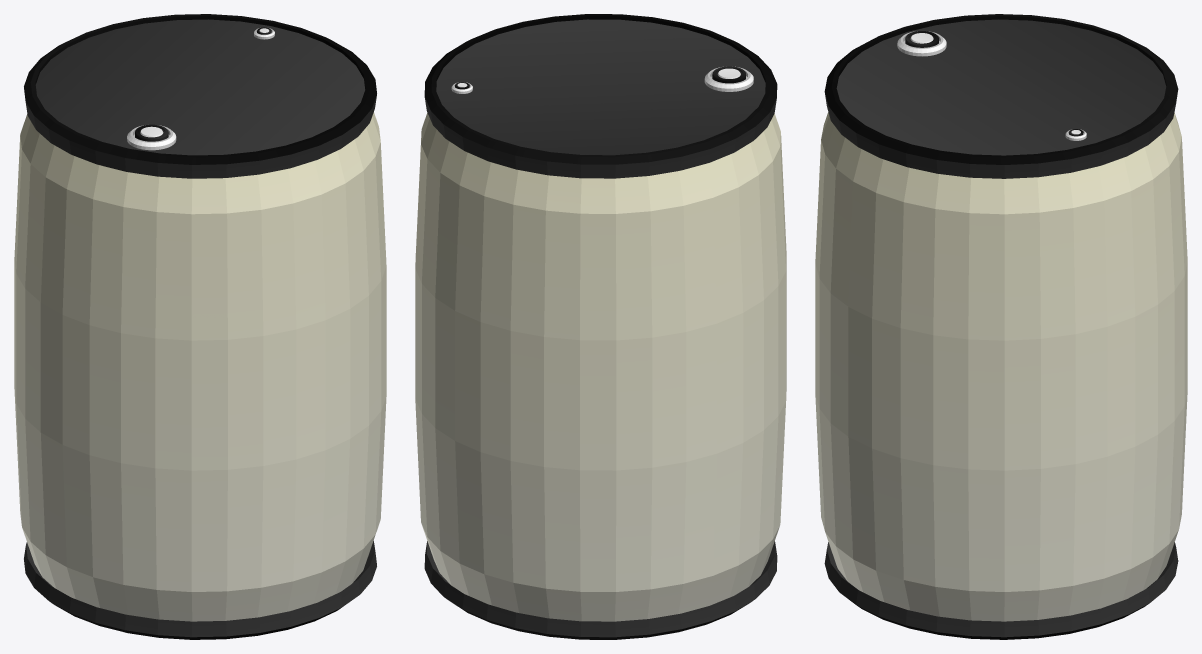
File: Water Barrel #3.fbx
The picture shows the model from 3 angles, left to right: view 1: azimuth 30°, elevation 25°; view 2: azimuth 150°, elevation 25°; view 3: azimuth 270°, elevation 25°; orthographic projection.
Parts seen in each view (by area): view 1: Water/Other Barrel #1; view 2: Water/Other Barrel #1; view 3: Water/Other Barrel #1.
Boxes of the visible parts, x1,y1,x2,y2 form: Water/Other Barrel #1: [14, 14, 386, 639]; Water/Other Barrel #1: [415, 14, 786, 639]; Water/Other Barrel #1: [815, 14, 1187, 639].
Bounding box in the file's own units: 424 × 293 × 293.
Materials: 1 (1 with a texture image).
